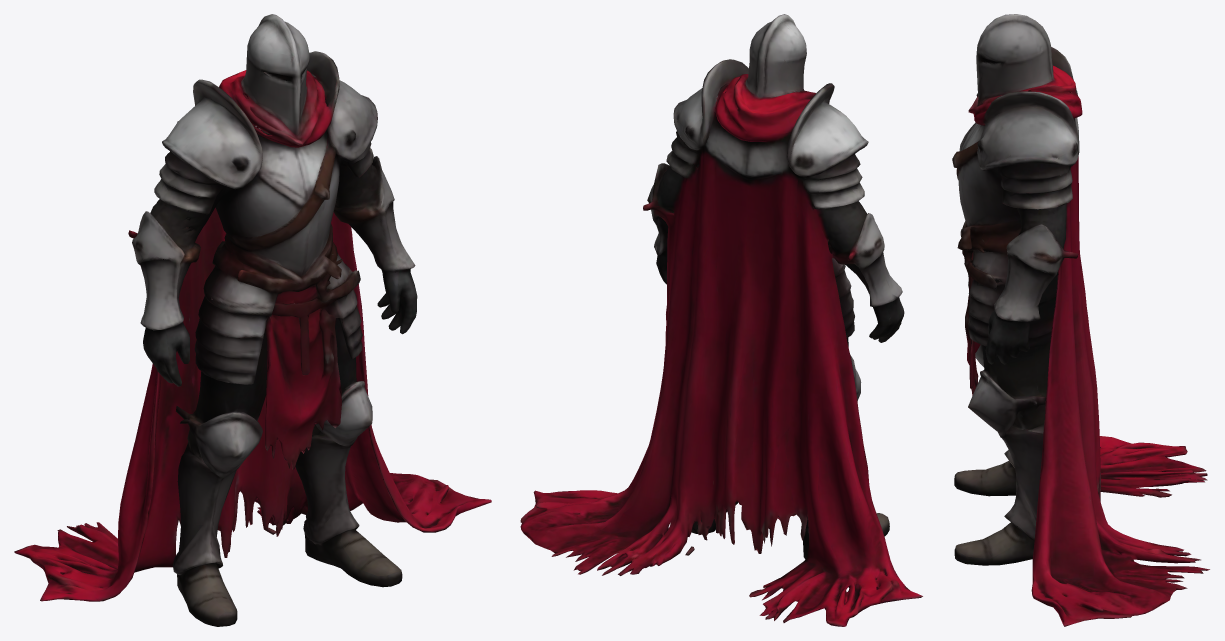
File: warden.glb
The picture shows the model from 3 angles, left to right: view 1: azimuth 30°, elevation 25°; view 2: azimuth 150°, elevation 25°; view 3: azimuth 270°, elevation 25°; orthographic projection. The views are drawn at different scales.
Parts seen in each view (by area): view 1: world; view 2: world; view 3: world.
Boxes of the visible parts, bbox=[...] form: world: bbox=[14, 14, 491, 626]; world: bbox=[520, 14, 922, 626]; world: bbox=[952, 14, 1209, 626].
Size of the model in its own units: 0.8154 by 1 by 0.4612.
Materials: 1 (1 with a texture image).
